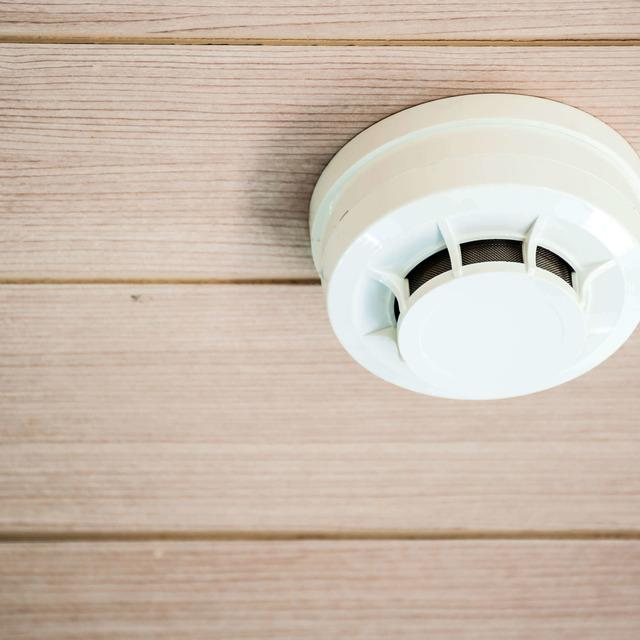Smoke-Detector: (311, 92, 640, 402)
